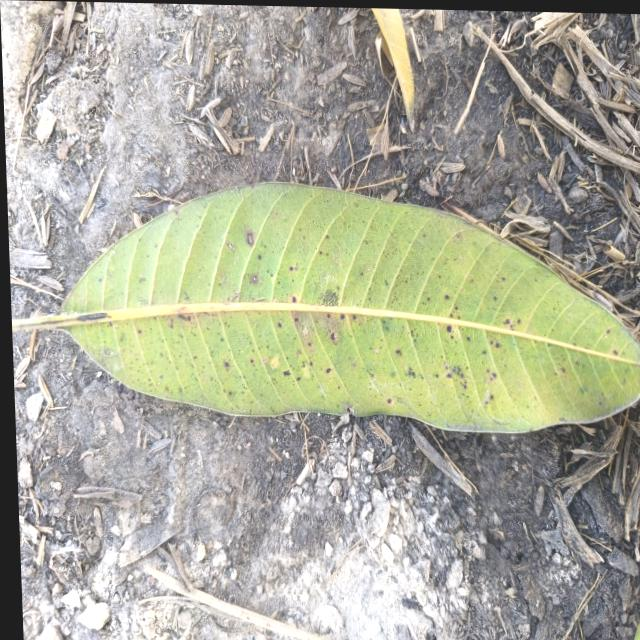Anthracnose: (246, 232, 256, 248), (282, 370, 292, 379), (325, 367, 334, 376), (224, 361, 230, 369), (293, 318, 301, 323), (289, 267, 296, 272), (278, 323, 282, 329)
